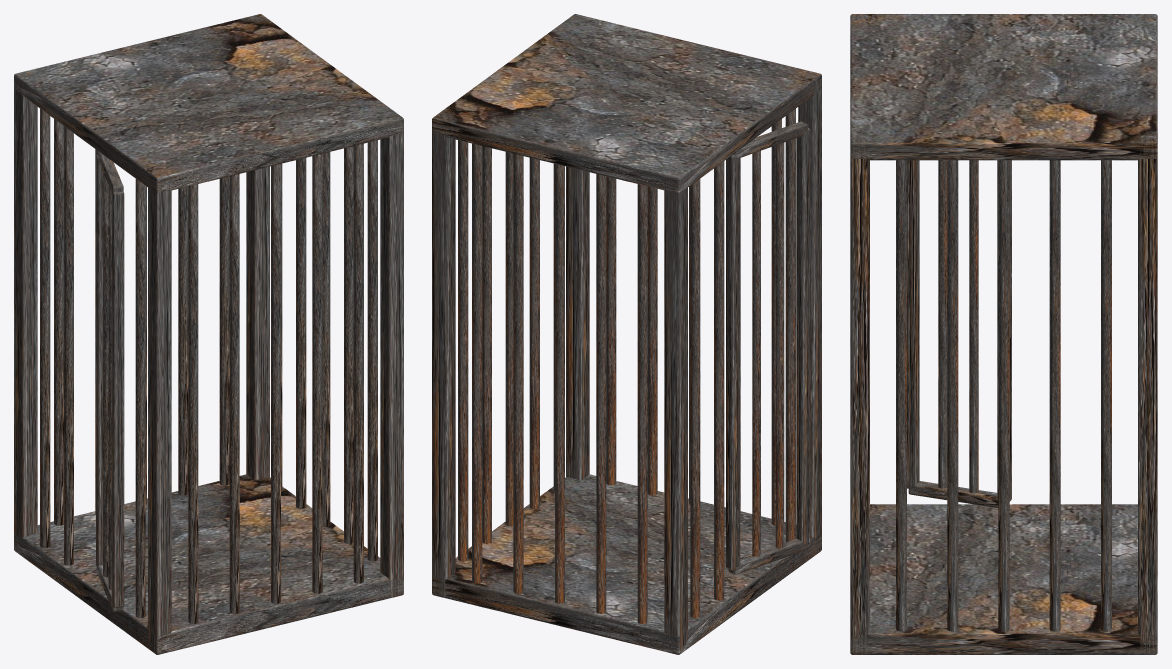
File: iron-cage-v01.glb
The picture shows the model from 3 angles, left to right: view 1: azimuth 30°, elevation 25°; view 2: azimuth 150°, elevation 25°; view 3: azimuth 270°, elevation 25°; orthographic projection. The views are drawn at different scales.
Visible parts, largest first — view 1: iron-cage; view 2: iron-cage; view 3: iron-cage.
Part boxes in pixels (box(x1,y1,x2,y2)): iron-cage: box(14, 14, 403, 654); iron-cage: box(432, 14, 821, 654); iron-cage: box(850, 14, 1157, 654).
Size of the model in its own units: 1.33 by 2.3 by 1.25.
2 materials, 2 textured.
